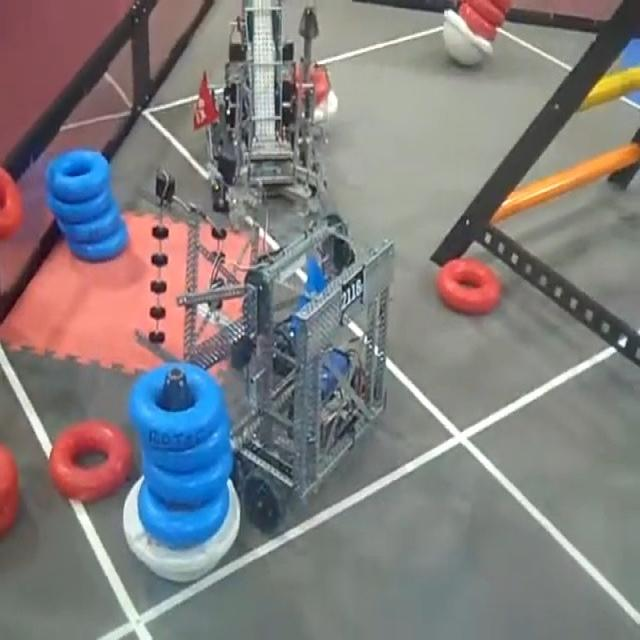Blue-Ring: (129, 362, 228, 449), (138, 482, 229, 548), (144, 450, 232, 506), (144, 420, 229, 472), (46, 150, 110, 202), (69, 220, 129, 261), (58, 203, 121, 242), (48, 187, 114, 222)
Red-Ring: (49, 420, 132, 501), (436, 258, 501, 314), (0, 442, 19, 538), (0, 167, 22, 238), (463, 5, 499, 45), (296, 65, 334, 101), (476, 0, 510, 27)
